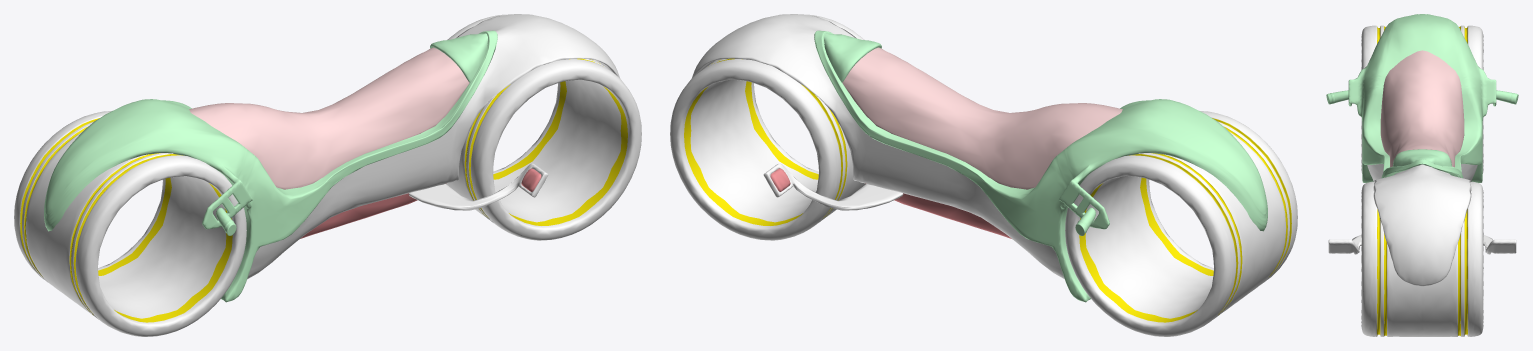
File: BikeTron.fbx
3 views of the same model, side by side, from view 1: azimuth 30°, elevation 25°; view 2: azimuth 150°, elevation 25°; view 3: azimuth 270°, elevation 25° (orthographic). The views are drawn at different scales.
Parts seen in each view (by area): view 1: Circle; view 2: Circle; view 3: Circle.
Boxes of the visible parts, x1,y1,x2,y2 form: Circle: [14, 14, 641, 336]; Circle: [670, 14, 1297, 336]; Circle: [1326, 14, 1518, 336].
Bounding box in the file's own units: 7.19 × 2.38 × 2.6.
